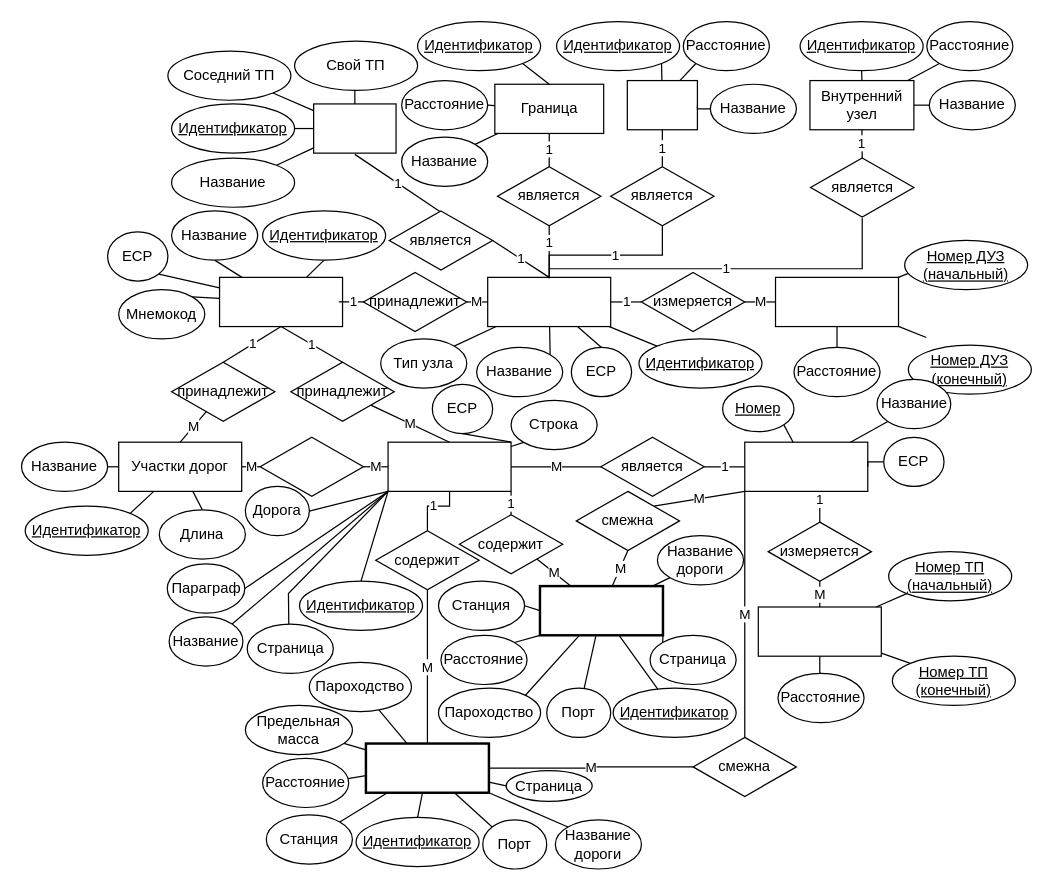
Some shapes in this 1053 by 891 pixel diagram are drawn without their labels. Each missing label, with the box of its shape:
Вода: (626, 79, 697, 130)
Дорожные узлы (ДУЗ): (486, 276, 611, 327)
Железные дороги: (218, 276, 343, 327)
Морские порты перевалки: (538, 584, 664, 636)
находится: (259, 436, 363, 496)
Расстояние до ДУЗ: (774, 276, 899, 327)
Расстояние до ТП: (757, 606, 881, 656)
Речные порты перевалки: (364, 742, 490, 793)
Станции и ОП: (387, 441, 511, 491)
Стык: (312, 103, 396, 153)
Транзитные пункты (ТП): (744, 441, 868, 491)
